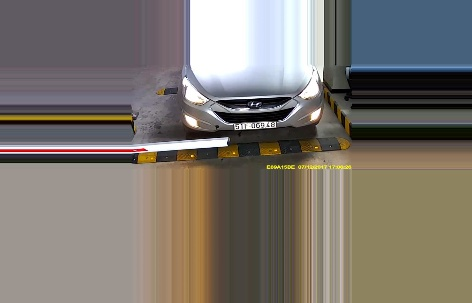plate: (233, 119, 278, 129)
